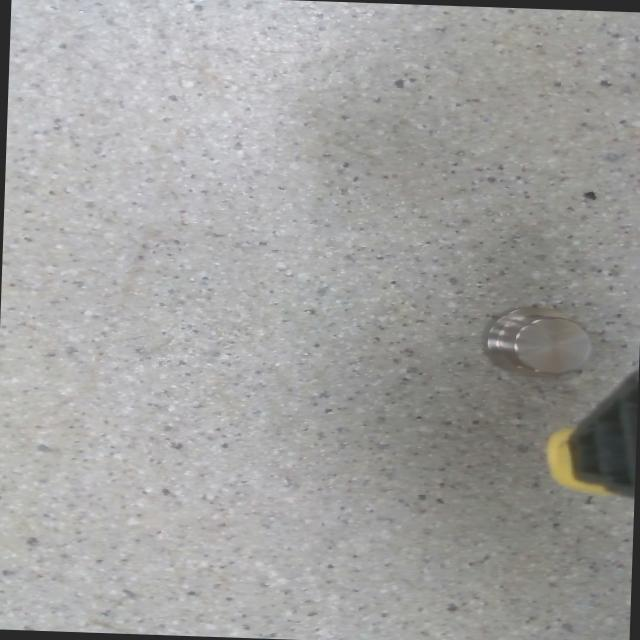sensor: (481, 304, 593, 379)
